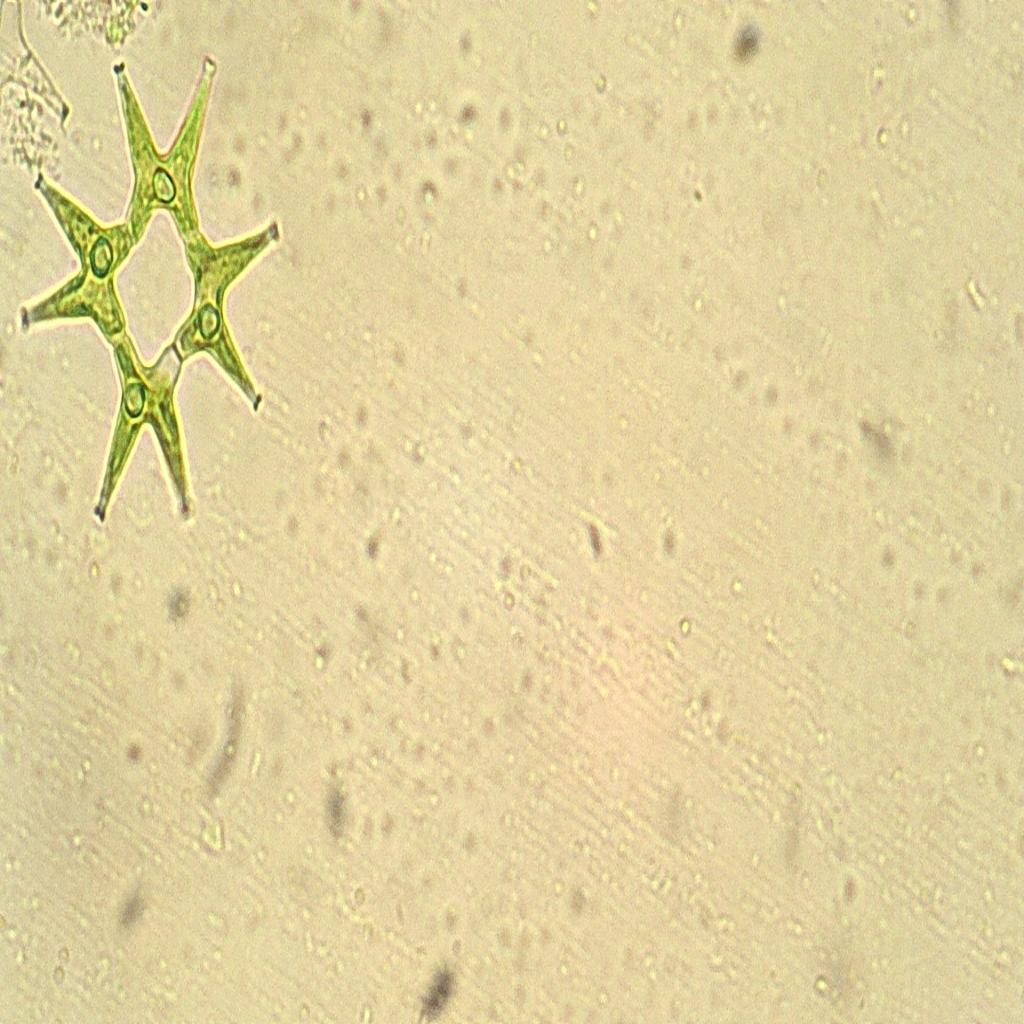Pediastrum_75O: (9, 39, 300, 552)
